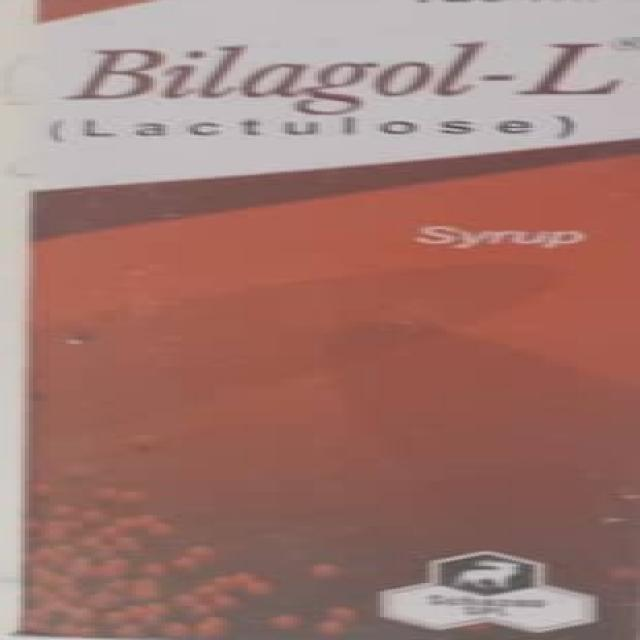drug-name: (62, 42, 620, 96)
